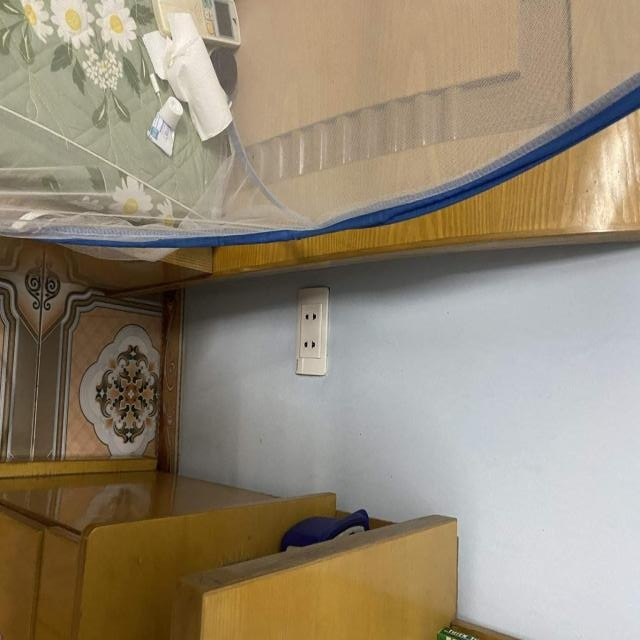outlet: (295, 286, 329, 376)
